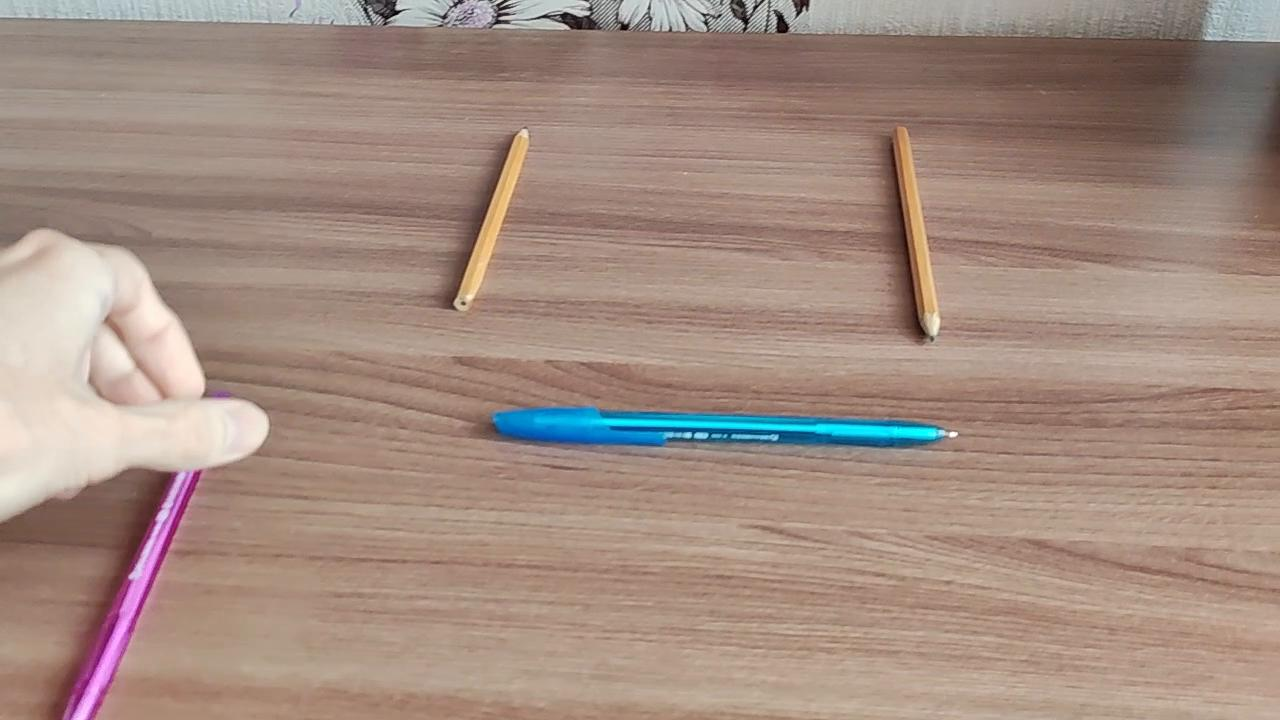pen: (59, 456, 208, 720), (486, 397, 964, 457)
pencil: (452, 117, 537, 318), (887, 122, 946, 346)
